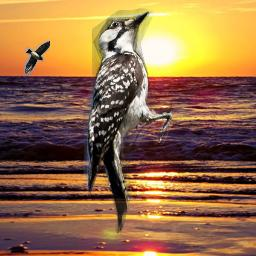Swallow: (24, 40, 50, 76)
Woodpecker: (80, 6, 172, 237)
